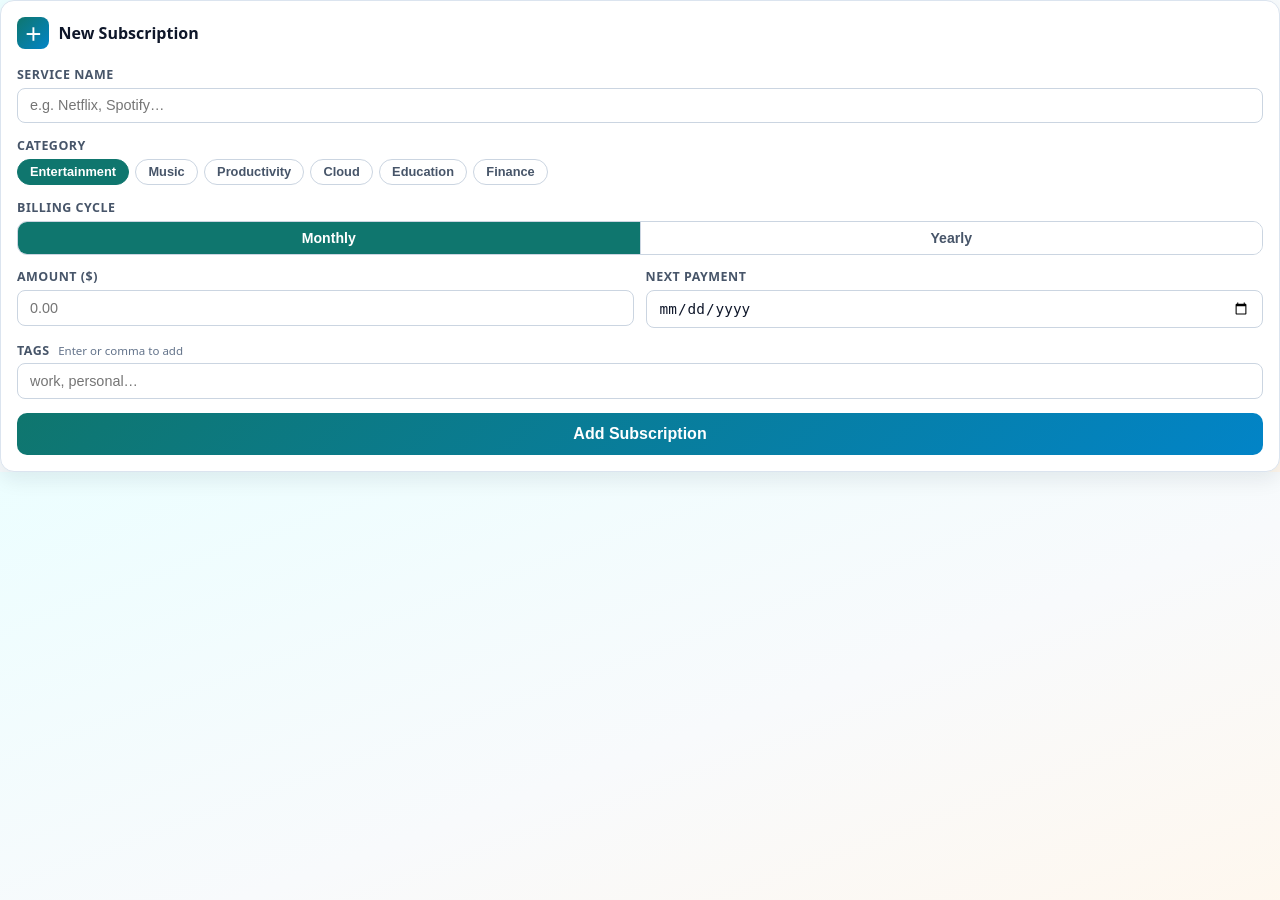
Test: AddSubscriptionForm › Submission › resets form to initial values after successful submit
The image size is (1280, 900).
Type "TestService" into the field with placeholder "e.g. Netflix, Spotify…" at (640, 105), box [17,88,1263,123]
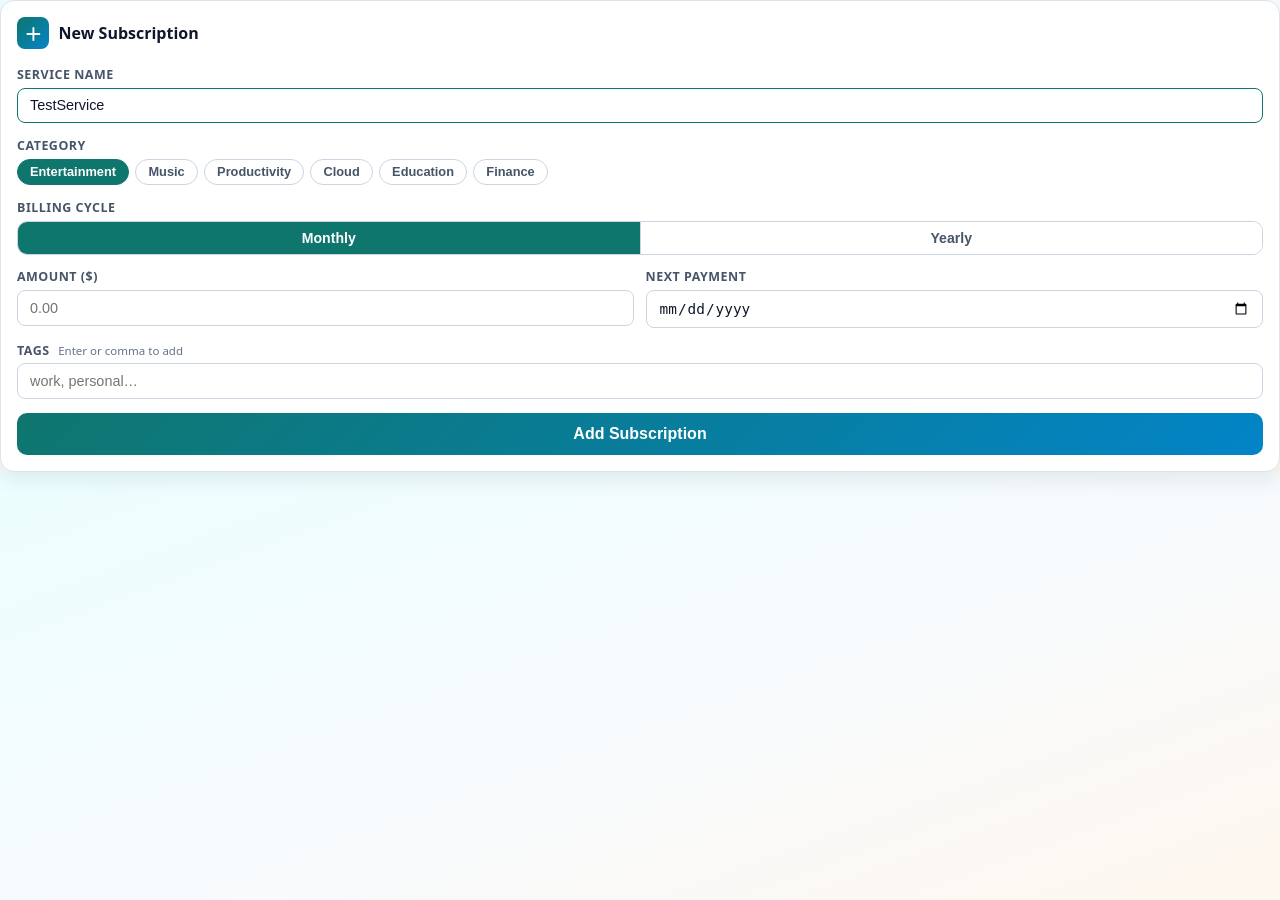
Type "5.00" into the number field with placeholder "0.00" at (326, 308), box [17,290,634,326]
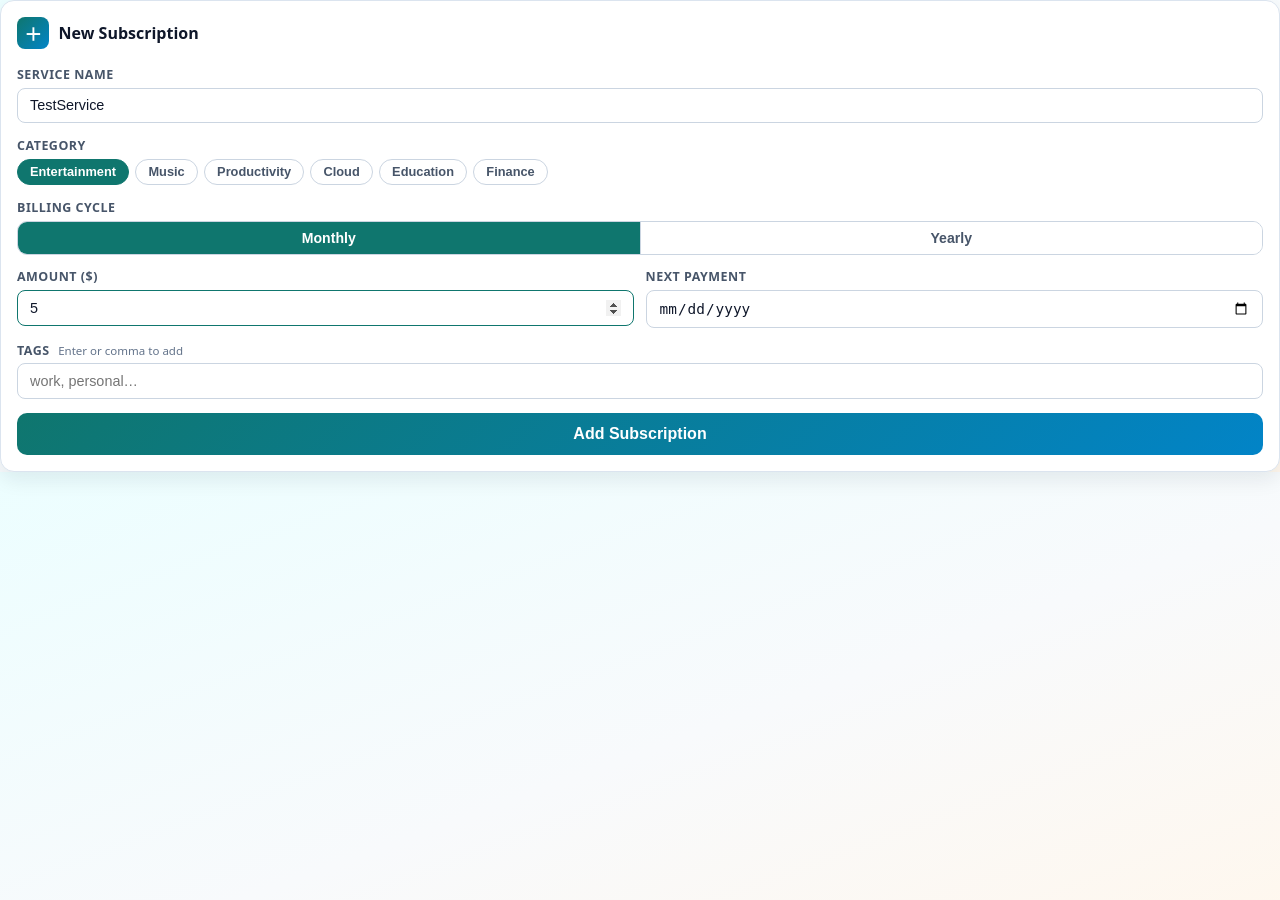
Type "2026-06-15" into the date field at (954, 309), box [646,290,1263,328]
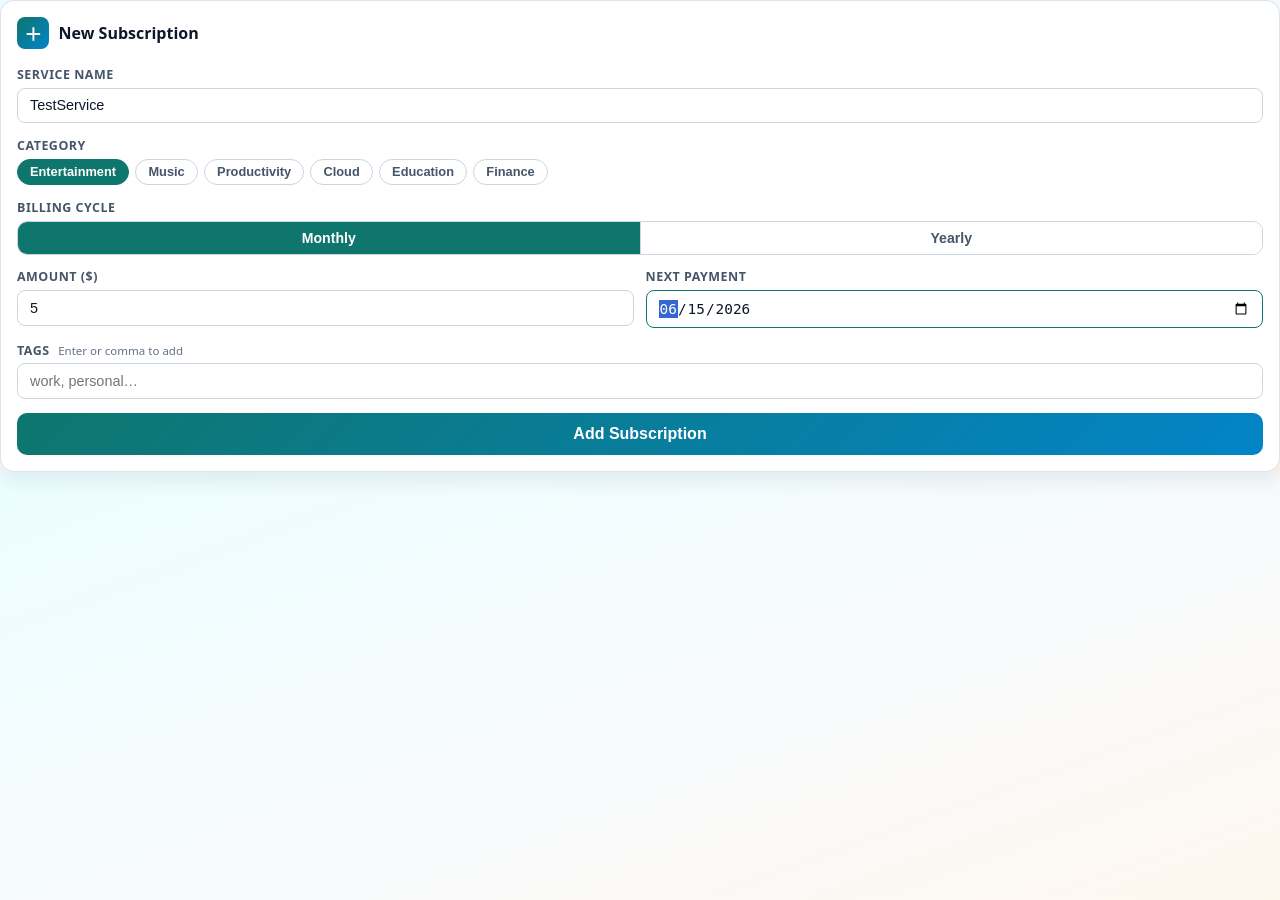
Click the button "Add Subscription" at (640, 434), box [17,412,1263,454]
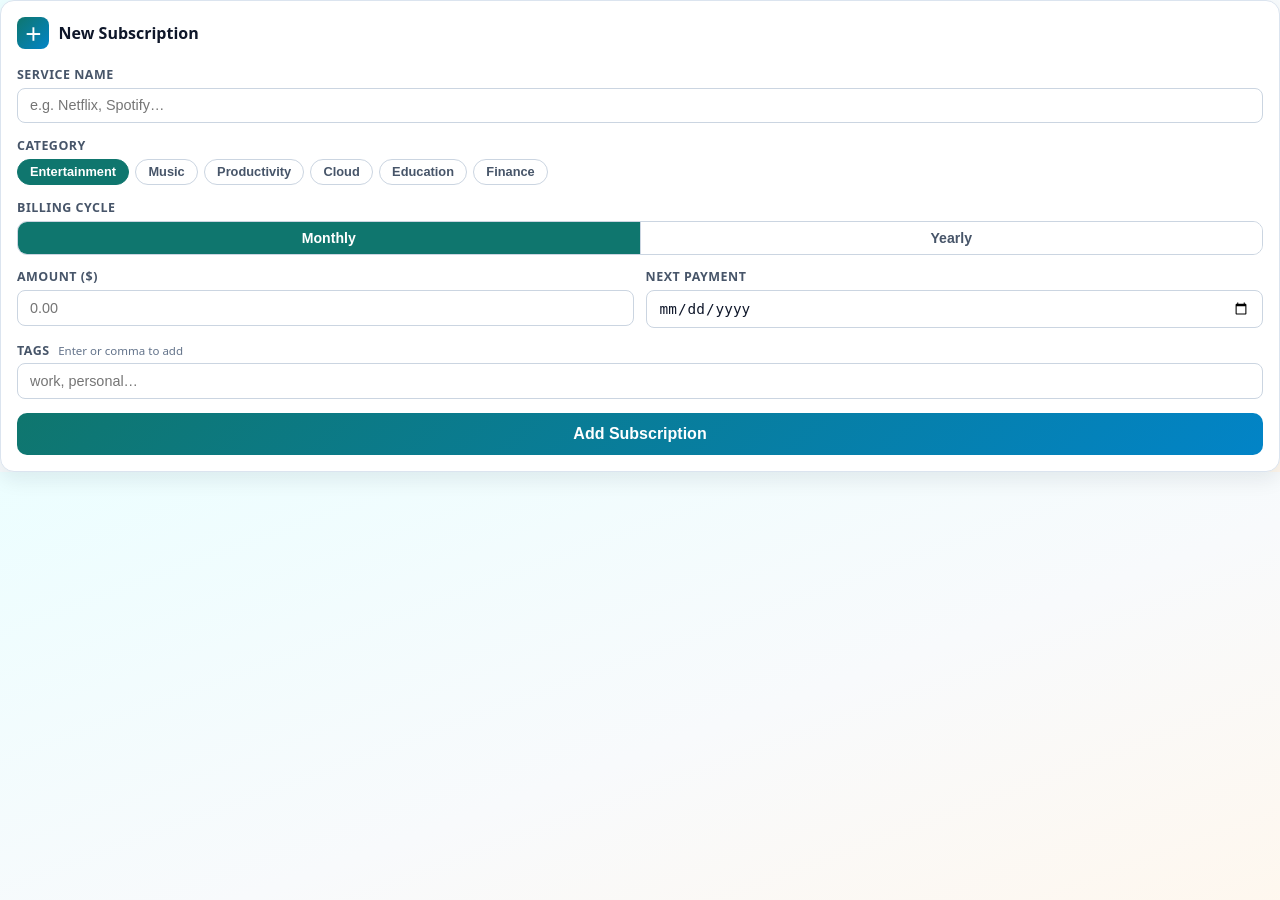
Now the field with placeholder "e.g. Netflix, Spotify…" is empty, box [17,88,1263,123]
Now the number field with placeholder "0.00" is not empty, box [17,290,634,326]
